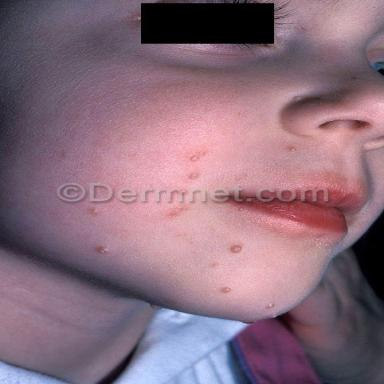Molluscum-Contagiosum: (98, 247, 110, 253), (232, 246, 241, 252), (190, 173, 198, 179), (223, 287, 231, 292), (191, 156, 199, 161), (268, 304, 274, 308), (290, 147, 296, 151)
